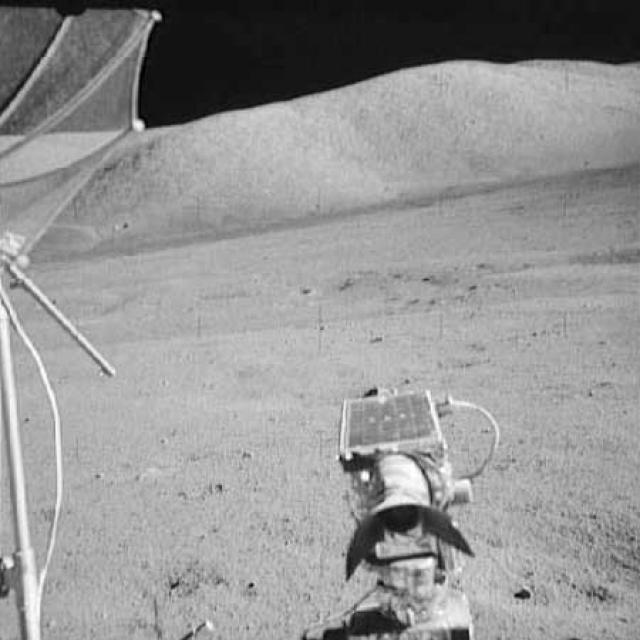artifact: (0, 4, 166, 639), (283, 380, 521, 639)
crater: (394, 242, 639, 282)
